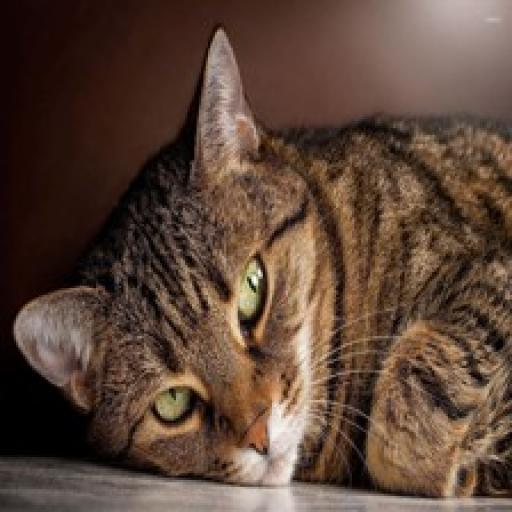cat: (11, 16, 512, 504)
